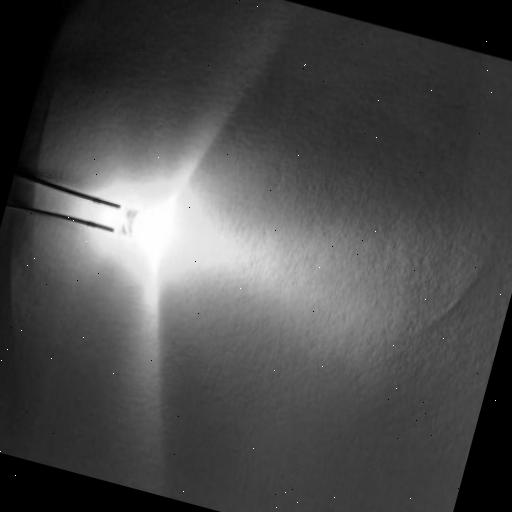LED: (78, 155, 250, 360)
